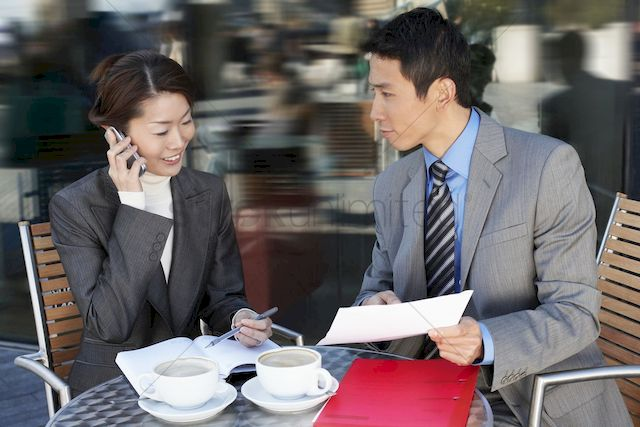phone: (101, 133, 142, 171)
talk: (100, 105, 200, 193)
